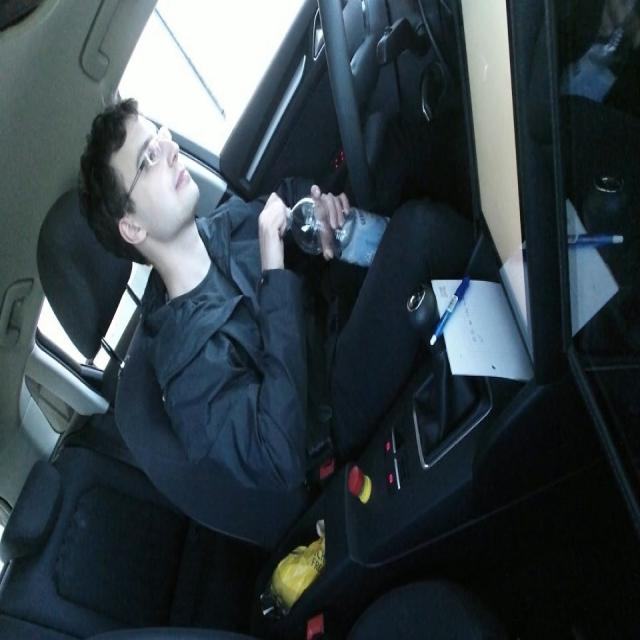pen: (427, 275, 472, 348)
